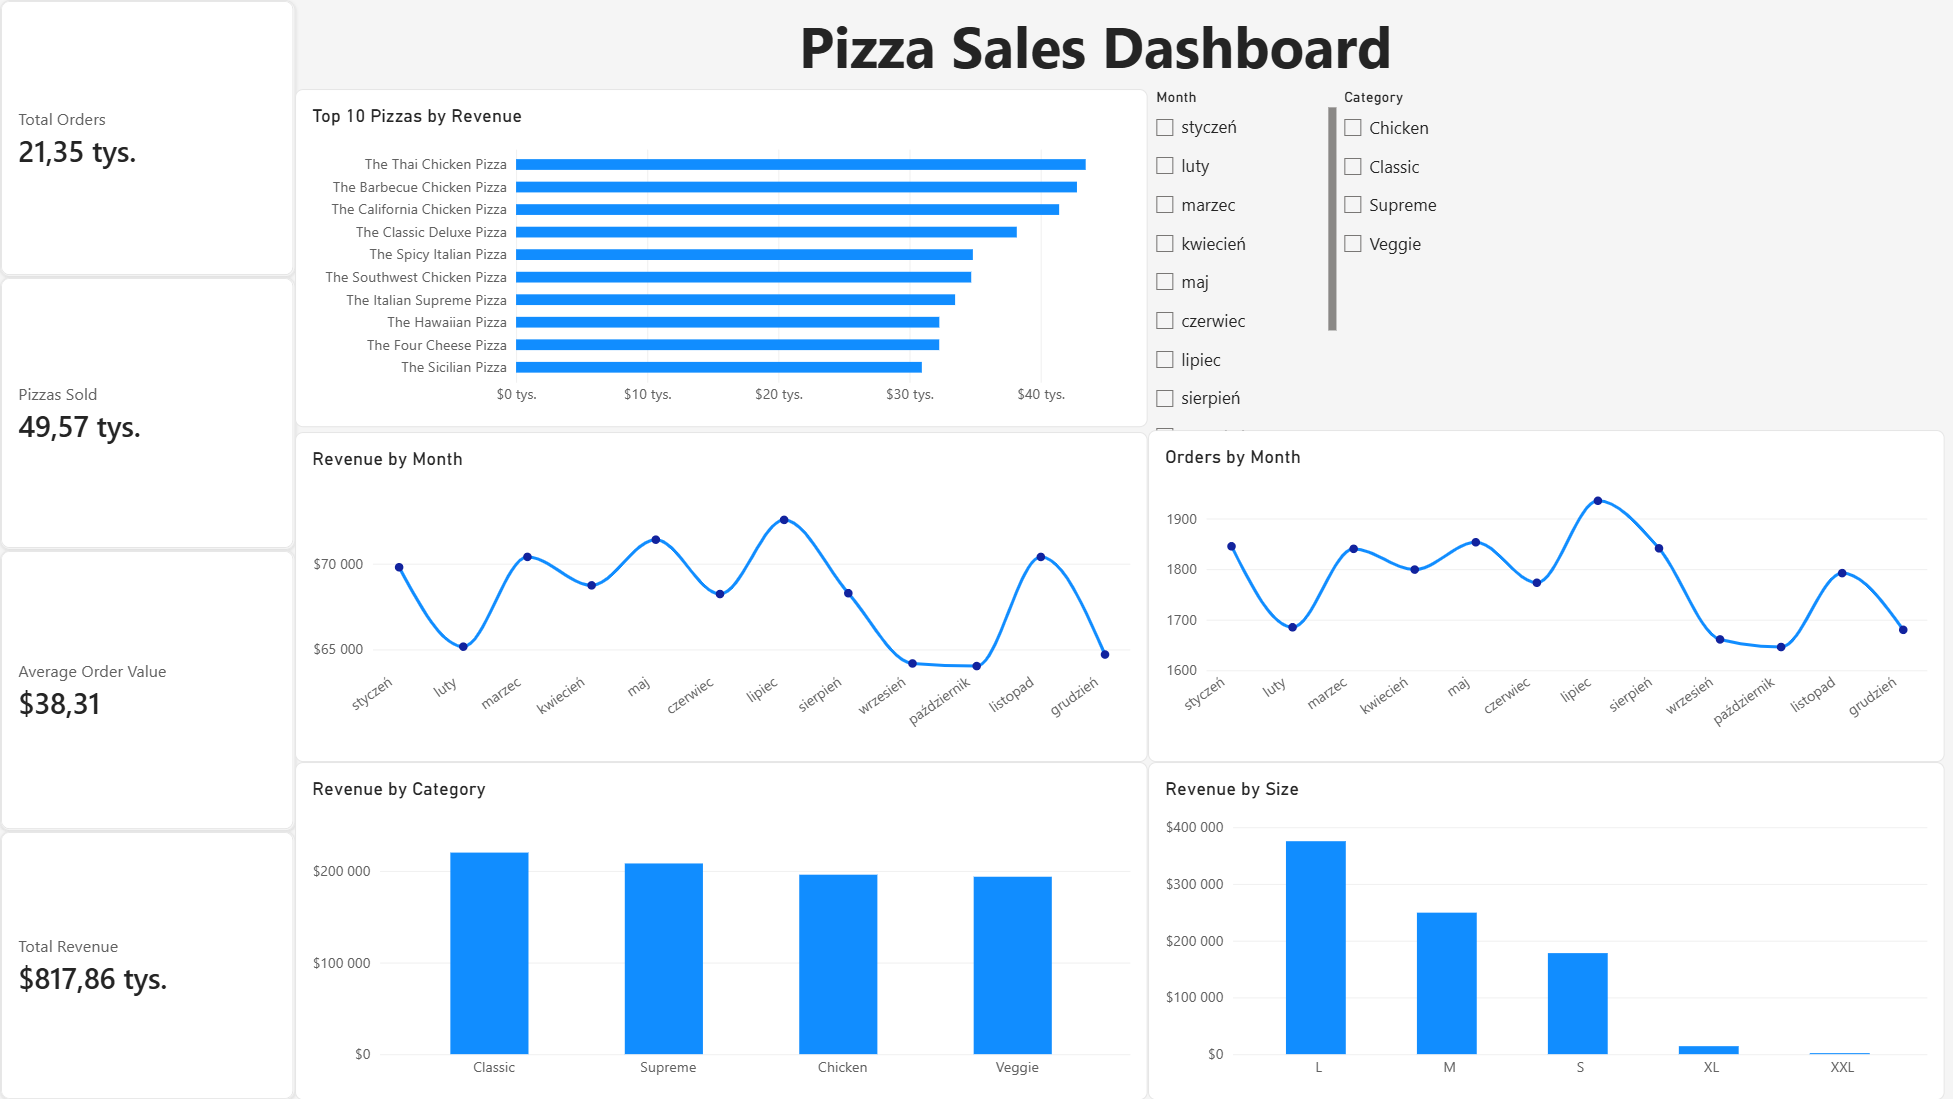

This screenshot's page, from the dashboard's own definition file:
{"tool":"powerbi","page":{"name":"Executive Overview","canvas":[1920,1080],"ordinal":0},"visuals":[{"type":"cardVisual","fields":{"Data":["orders.Total Orders"]},"box":[0,0,289.6,271.9],"z":0},{"type":"cardVisual","fields":{"Data":["order_details.Pizzas Sold"]},"box":[0,271.9,289.6,268],"z":1},{"type":"cardVisual","fields":{"Data":["order_details.Average Order Value"]},"box":[0,539.9,289.6,275.8],"z":2},{"type":"cardVisual","fields":{"Data":["order_details.Total Revenue"]},"box":[0,815.7,289.6,264],"z":3},{"type":"lineChart","title":"Revenue by Month","fields":{"Category":["Calendar.Month"],"Y":["order_details.Total Revenue"]},"box":[289.6,424,837.3,323.9],"z":4},{"type":"lineChart","title":"Orders by Month","fields":{"Category":["Calendar.Month"],"Y":["orders.Total Orders"]},"box":[1126.9,422.1,782.3,325.9],"z":5},{"type":"columnChart","title":"Revenue by Category","fields":{"Category":["pizza_types.category"],"Y":["order_details.Total Revenue"]},"box":[289.6,748,837.3,331.8],"z":6},{"type":"columnChart","title":"Revenue by Size","fields":{"Category":["pizzas.size"],"Y":["order_details.Total Revenue"]},"box":[1126.9,748,782.3,331.8],"z":7},{"type":"barChart","title":"Top 10 Pizzas by Revenue","fields":{"Category":["pizza_types.name"],"Y":["order_details.Total Revenue"]},"box":[289.6,87.4,837.3,331.8],"z":8},{"type":"slicer","fields":{"Values":["Calendar.Month"]},"box":[1126.9,87.4,184.5,334.7],"z":9},{"type":"slicer","fields":{"Values":["pizza_types.category"]},"box":[1311.4,87.4,171.8,173.7],"z":10},{"type":"textbox","box":[784.3,6.9,606.6,80.5],"z":11}]}

Visuals, with their boxes in screenshot pixels (x1, y1, x2, y2), scaled from the page's 1920x1080 canvas onto the 1953x1099 screenshot:
cardVisual - orders.Total Orders: rect(0, 0, 295, 277)
cardVisual - order_details.Pizzas Sold: rect(0, 277, 295, 549)
cardVisual - order_details.Average Order Value: rect(0, 549, 295, 830)
cardVisual - order_details.Total Revenue: rect(0, 830, 295, 1098)
"Revenue by Month" lineChart: rect(295, 431, 1146, 761)
"Orders by Month" lineChart: rect(1146, 430, 1942, 761)
"Revenue by Category" columnChart: rect(295, 761, 1146, 1098)
"Revenue by Size" columnChart: rect(1146, 761, 1942, 1098)
"Top 10 Pizzas by Revenue" barChart: rect(295, 89, 1146, 427)
slicer - Calendar.Month: rect(1146, 89, 1334, 430)
slicer - pizza_types.category: rect(1334, 89, 1509, 266)
textbox: rect(798, 7, 1415, 89)
